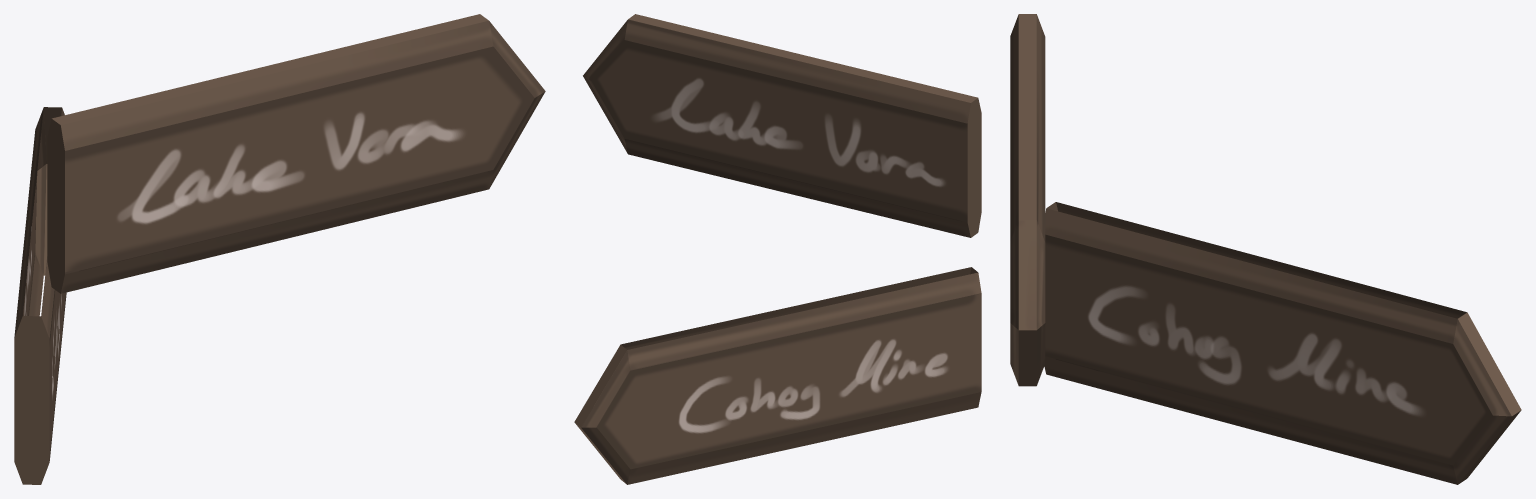
Rendered from Signs.fbx.
The picture shows the model from 3 angles, left to right: view 1: azimuth 30°, elevation 25°; view 2: azimuth 150°, elevation 25°; view 3: azimuth 270°, elevation 25°; orthographic projection. The views are drawn at different scales.
Visible parts, largest first — view 1: Signs; view 2: Signs; view 3: Signs.
Boxes of the visible parts, <box> form: Signs: <box>14,14,545,484</box>; Signs: <box>574,14,981,484</box>; Signs: <box>1010,14,1521,484</box>.
Bounding box in the file's own units: 4.56 × 3.15 × 4.02.
Materials: 1 (1 with a texture image).
